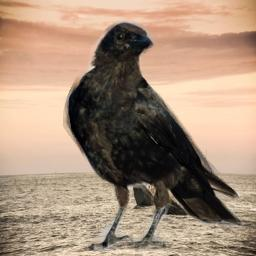Crow: (63, 20, 244, 251)
